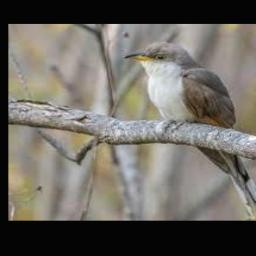Cuckoo: (123, 42, 256, 218)
